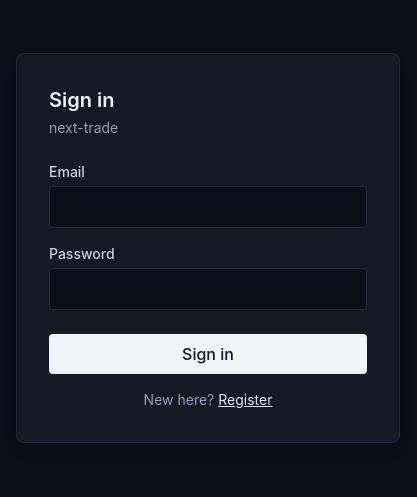
login screen › reports a rejected login legibly instead of failing silently
Check: the heading "Sign in" is shown, box left=49, top=88, right=114, bottom=112
Type "a@b.com" into the field labelled "Email" at (208, 207), box left=49, top=186, right=367, bottom=228
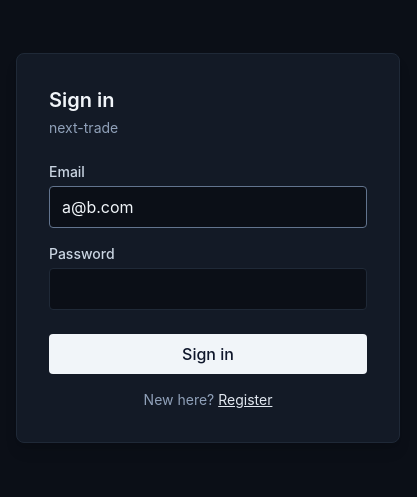
Type "wrong" into the password field labelled "Password" at (208, 289), box left=49, top=268, right=367, bottom=310
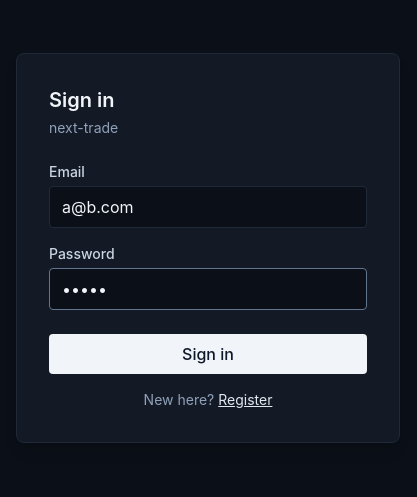
Click the button "Sign in" at (208, 354), box left=49, top=334, right=367, bottom=374
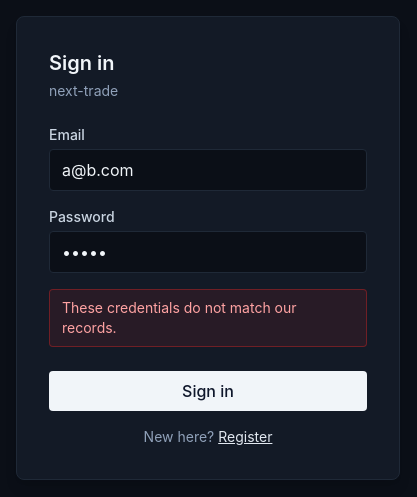
Check: the message shows "do not match our records", box left=62, top=299, right=296, bottom=336
